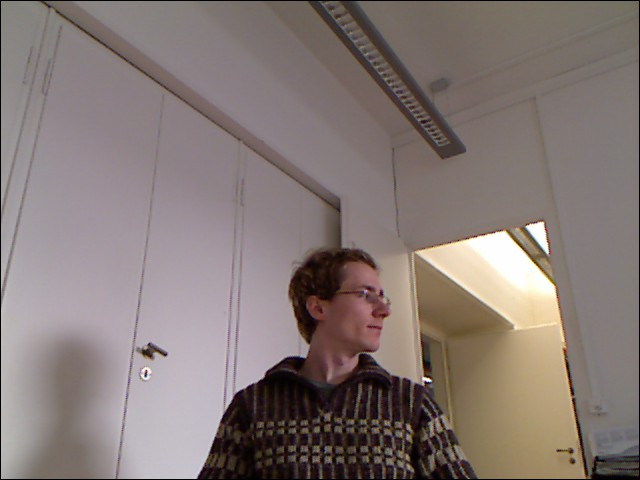deflection: (212, 240, 451, 473)
